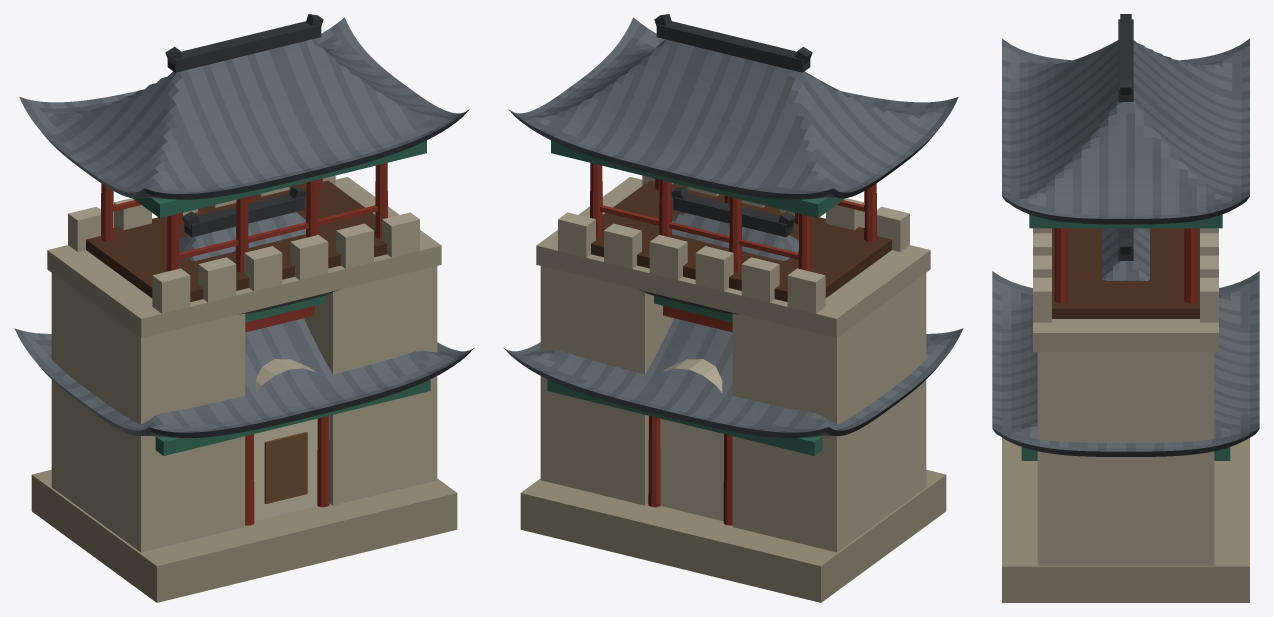
The model's file is ink.glb.
3 views of the same model, side by side, from view 1: azimuth 30°, elevation 25°; view 2: azimuth 150°, elevation 25°; view 3: azimuth 270°, elevation 25° (orthographic).
Visible parts, largest first — view 1: gate_stone, gate_wood, hall; view 2: gate_stone, gate_wood, hall; view 3: gate_wood, gate_stone, hall.
Boxes of the visible parts, x1,y1,x2,y2 form: gate_stone: (47, 175, 441, 552); gate_wood: (19, 14, 469, 301); hall: (14, 186, 473, 602); gate_stone: (536, 175, 930, 552); gate_wood: (508, 14, 958, 301); hall: (504, 186, 963, 602); gate_wood: (1002, 14, 1249, 318); gate_stone: (1033, 228, 1218, 565); hall: (992, 228, 1259, 602).
Bounding box in the file's own units: 3.9 × 5.66 × 2.8.
